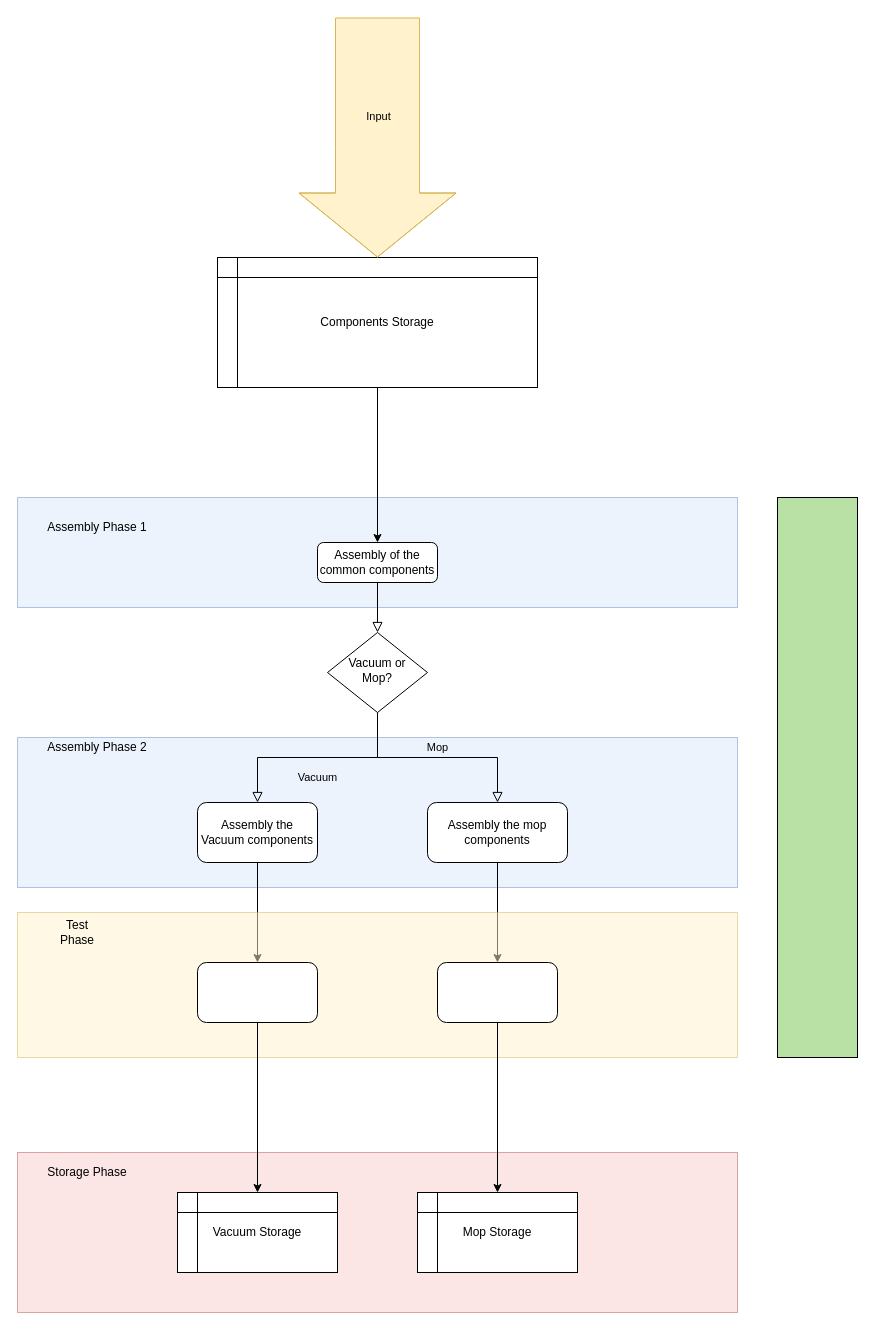
This 875x1330 diagram has some shape labels left out. Each missing label, with the box of its shape:
Quality Control: (776, 496, 858, 1058)
Test the Mop: (436, 962, 558, 1022)
Test the Vacuum: (196, 962, 318, 1022)
